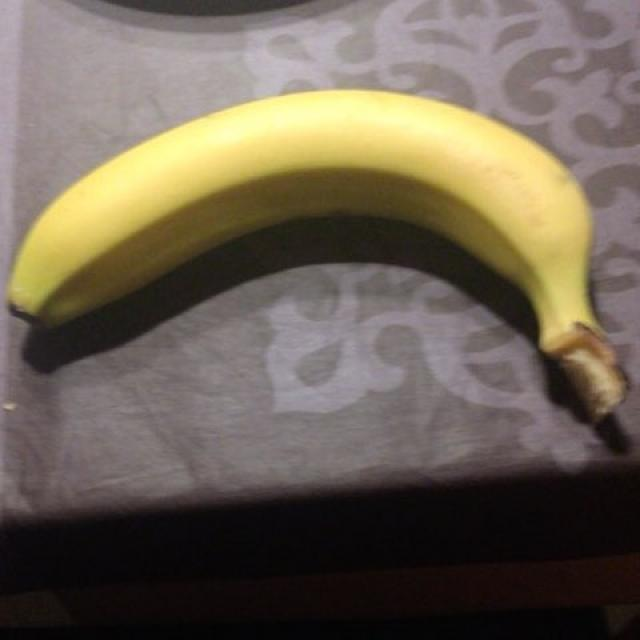banana: (18, 110, 604, 424)
